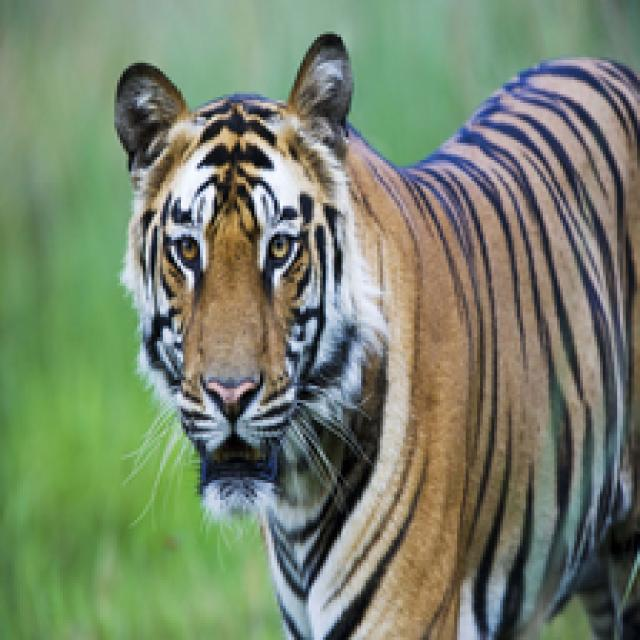tiger: (114, 46, 640, 637)
